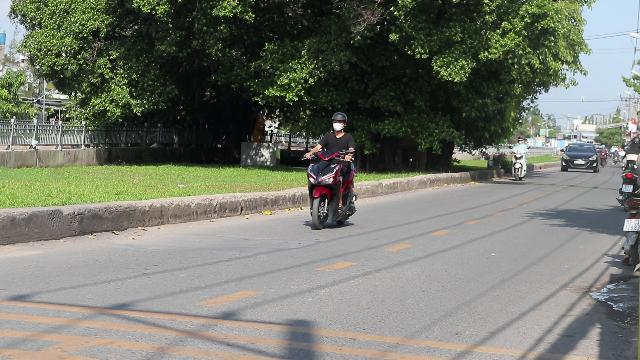helmet: (330, 112, 348, 132)
licenseplate: (623, 218, 639, 230)
motorcyclist: (302, 110, 358, 229)
